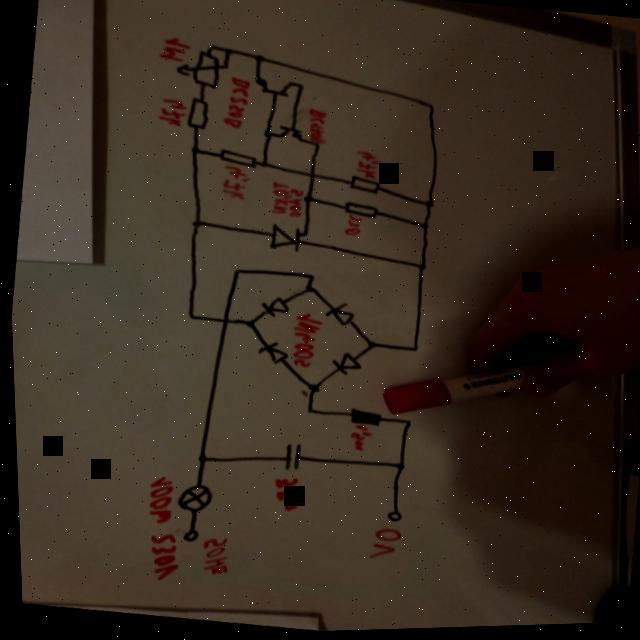capacitor: (269, 441, 305, 476)
crossover: (301, 169, 316, 184), (215, 316, 227, 327)
diode: (324, 350, 360, 380), (318, 301, 354, 330), (250, 339, 285, 367), (253, 294, 289, 321)
inductor: (340, 406, 380, 429)
junction: (357, 337, 374, 353), (187, 450, 204, 466), (299, 381, 317, 395), (183, 216, 201, 230), (410, 261, 427, 275), (413, 221, 429, 235), (418, 199, 433, 213), (386, 461, 402, 474), (299, 192, 313, 206), (296, 283, 311, 296), (180, 310, 194, 323), (256, 129, 271, 141), (395, 419, 410, 431), (184, 144, 199, 156), (238, 318, 252, 330), (403, 346, 417, 357), (255, 159, 267, 171), (298, 407, 311, 418), (423, 103, 436, 113), (251, 53, 262, 64), (300, 273, 313, 282), (292, 83, 303, 93), (204, 43, 215, 53), (227, 267, 238, 276), (308, 142, 319, 151), (219, 47, 229, 54)
resistor: (172, 49, 229, 92), (181, 96, 210, 134), (212, 145, 255, 169), (338, 200, 379, 222), (342, 176, 381, 198)
terminal: (377, 508, 401, 527), (174, 528, 197, 546)
text: (282, 311, 321, 371), (138, 530, 177, 583), (216, 74, 251, 132), (138, 472, 173, 525), (263, 179, 302, 222), (261, 472, 300, 515), (192, 533, 230, 577), (359, 525, 398, 566), (214, 163, 250, 204), (152, 94, 187, 130), (348, 149, 382, 182), (300, 106, 327, 147), (154, 35, 190, 64), (343, 423, 368, 454), (337, 213, 361, 239)
thyristor: (258, 219, 307, 261)
transistor: (247, 71, 293, 105), (271, 123, 302, 146)
